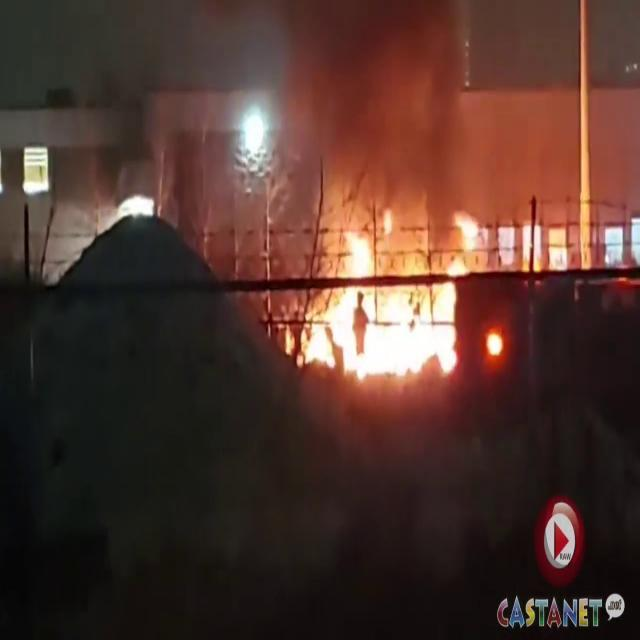Fire: (294, 220, 484, 393)
